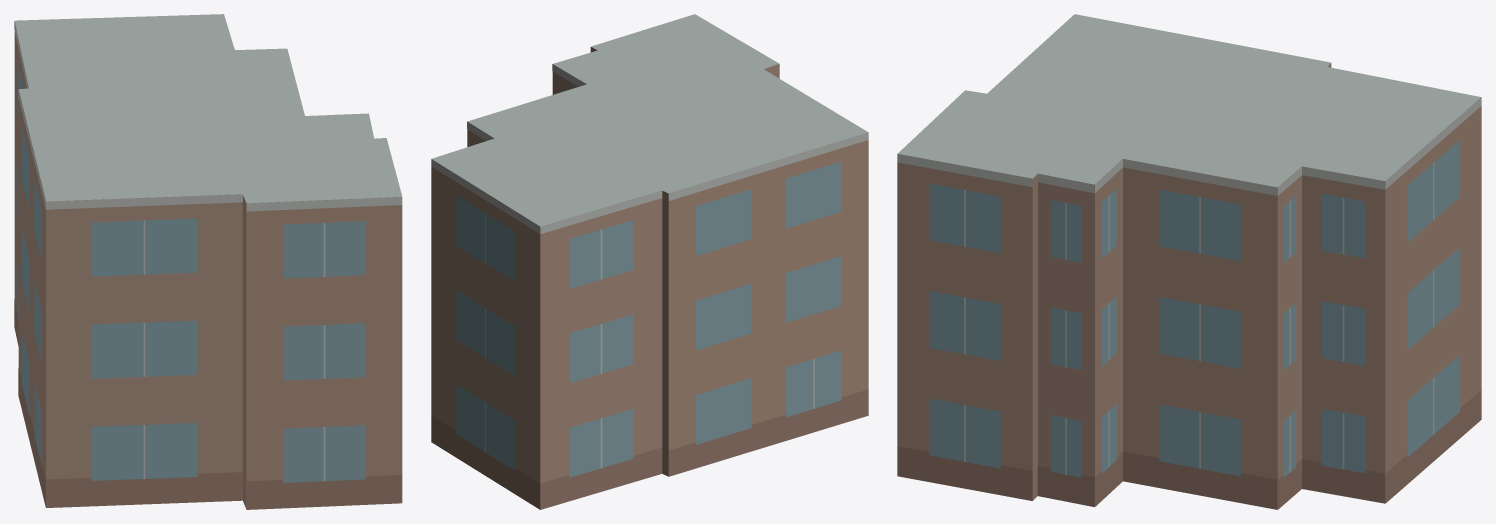
The model's file is survey-upis-32680844.glb.
The picture shows the model from 3 angles, left to right: view 1: azimuth 30°, elevation 25°; view 2: azimuth 150°, elevation 25°; view 3: azimuth 270°, elevation 25°; orthographic projection. The views are drawn at different scales.
Visible parts, largest first — view 1: survey-upis-32680844.tmp; view 2: survey-upis-32680844.tmp; view 3: survey-upis-32680844.tmp.
Boxes of the visible parts, box(x1,y1,x2,y2) form: survey-upis-32680844.tmp: box(14, 14, 402, 509); survey-upis-32680844.tmp: box(431, 14, 868, 509); survey-upis-32680844.tmp: box(897, 14, 1481, 509).
Bounding box in the file's own units: 10.56 × 9.15 × 15.03.
